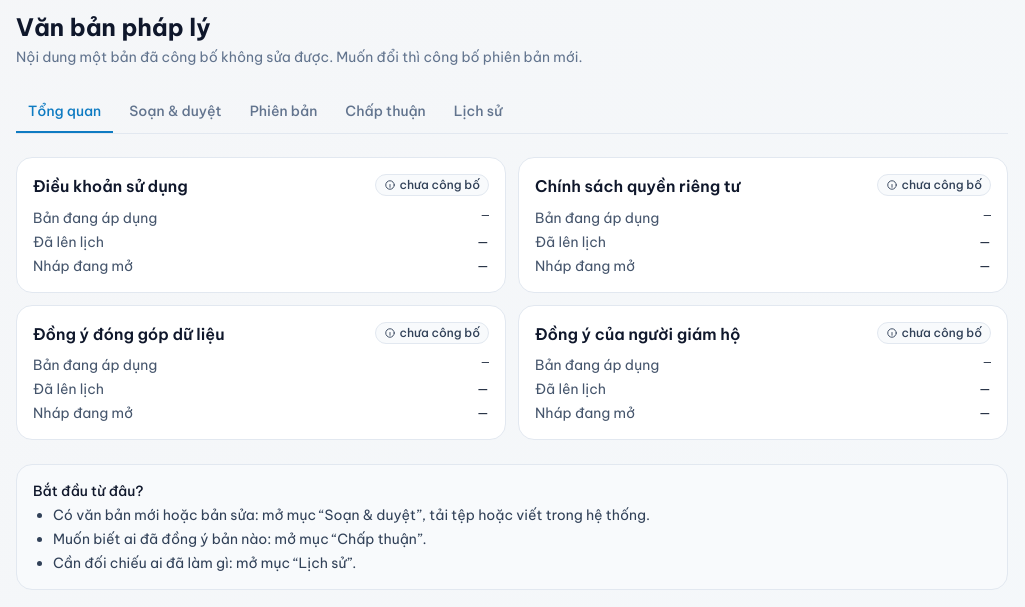
Test case: AdminLegalPage › năm mục là tab thật: có tablist, đổi mục bằng bấm
Click the tab "Lịch sử" at (478, 112), box [442, 91, 514, 133]
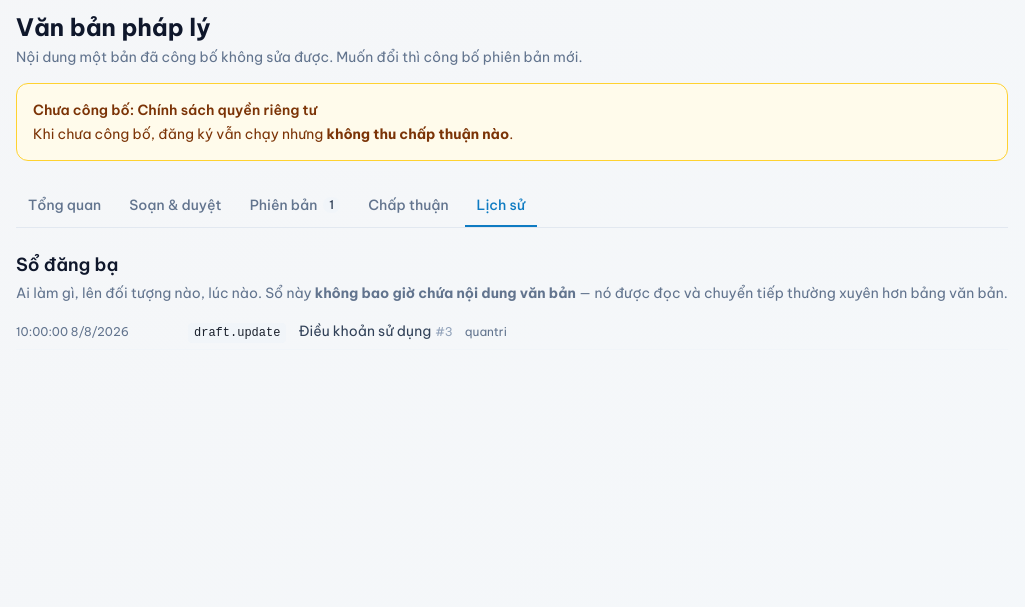
Expected: the heading "Sổ đăng bạ" is shown, [16, 253, 118, 276]
